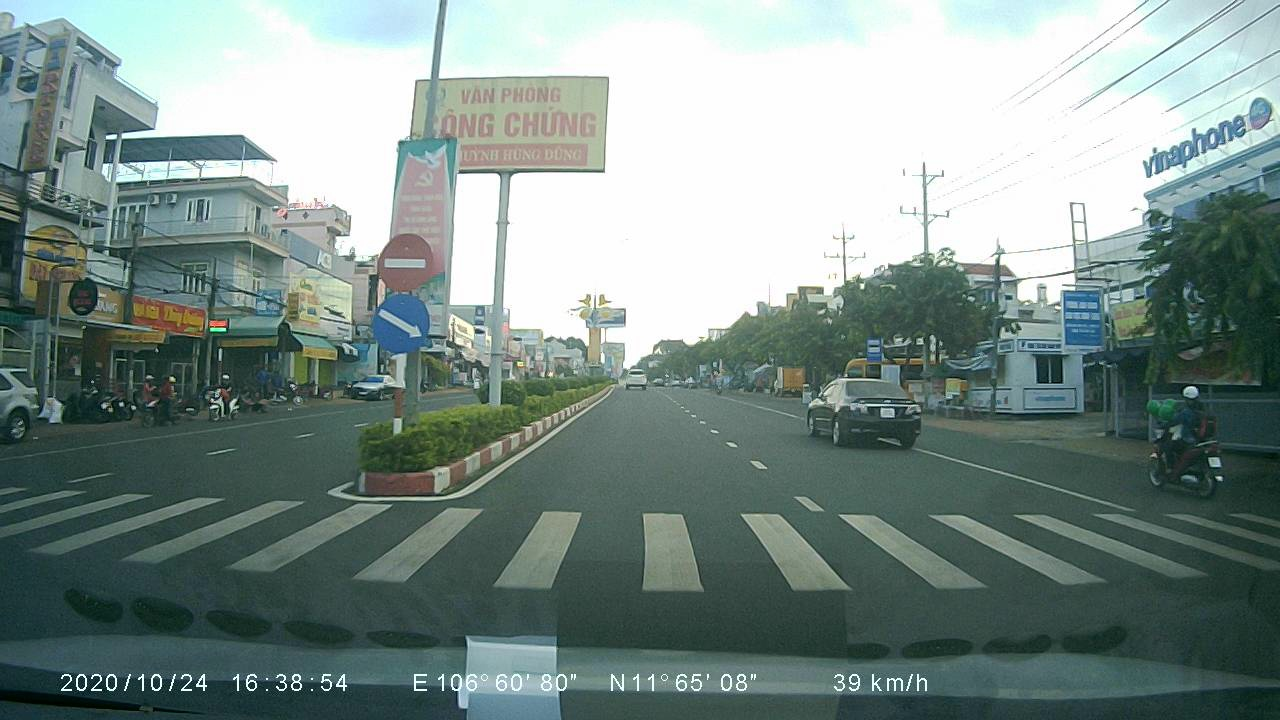Cam di nguoc chieu: (373, 230, 436, 291)
Huong di phai re phai: (369, 294, 436, 353)
